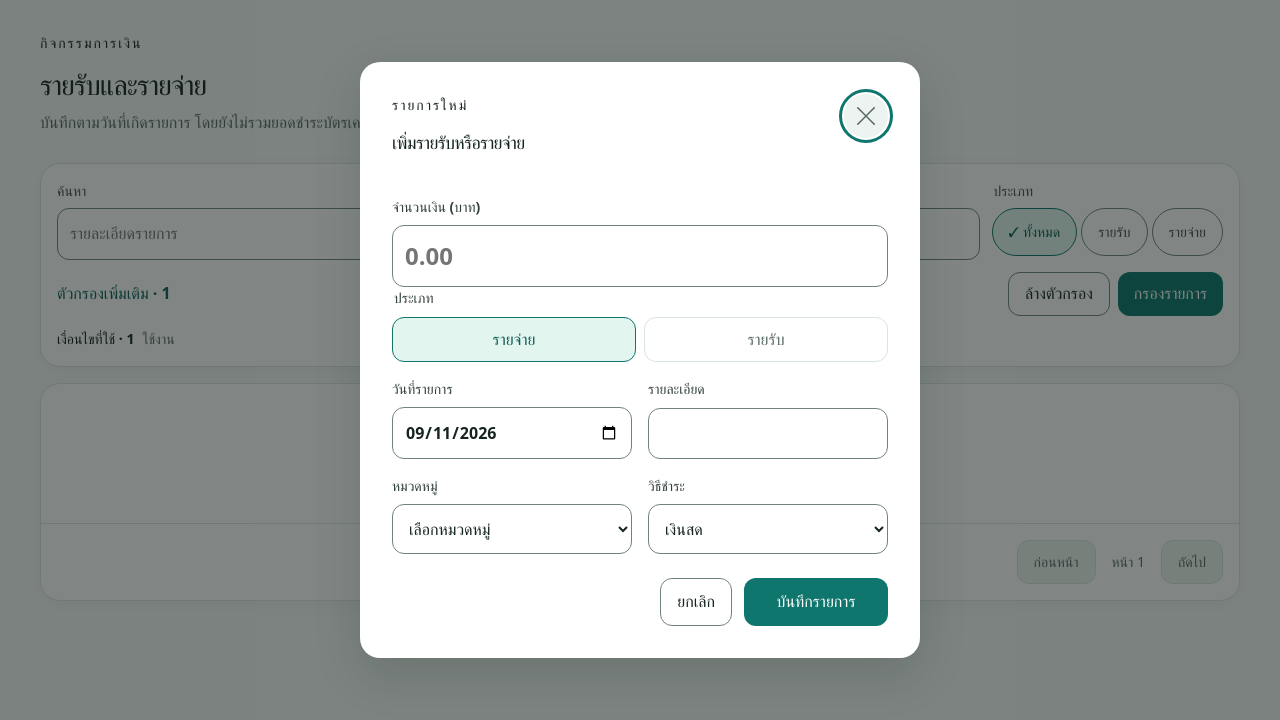
Test: finance pages › retains entered values when saving fails
In the field labelled "จำนวนเงิน (บาท)": point(640, 256) [392,225,888,287], type "125.50"
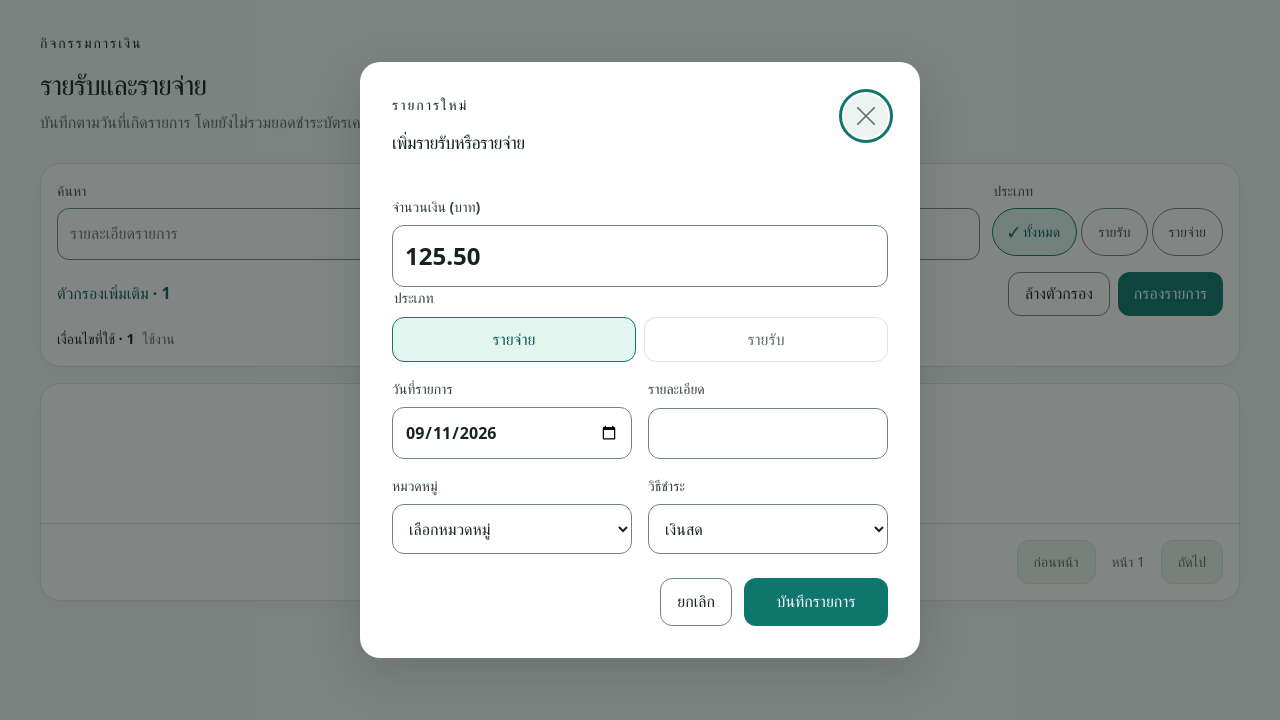
In the field labelled "รายละเอียด": point(768, 433) [648,408,888,459], type "รายการที่ต้องเก็บค่าไว้"
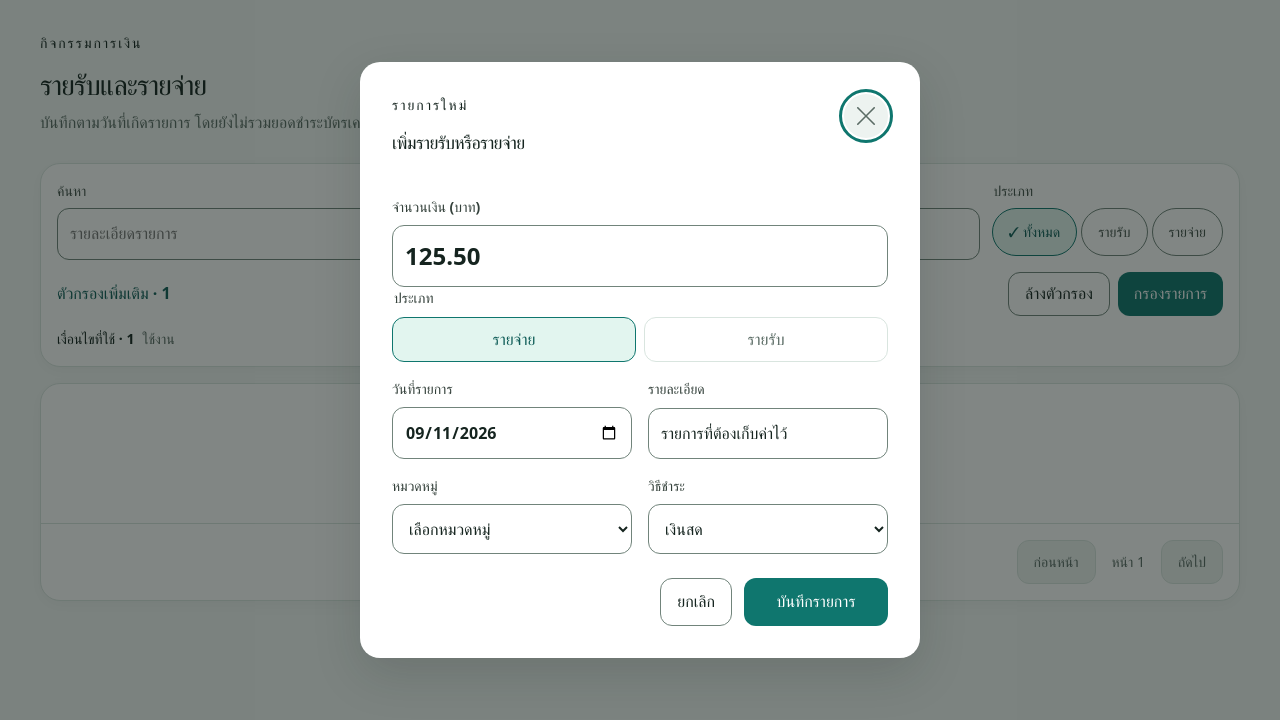
Select "อาหารสมมติ" in the dropdown labelled "หมวดหมู่": point(512, 529) [392,504,632,554]
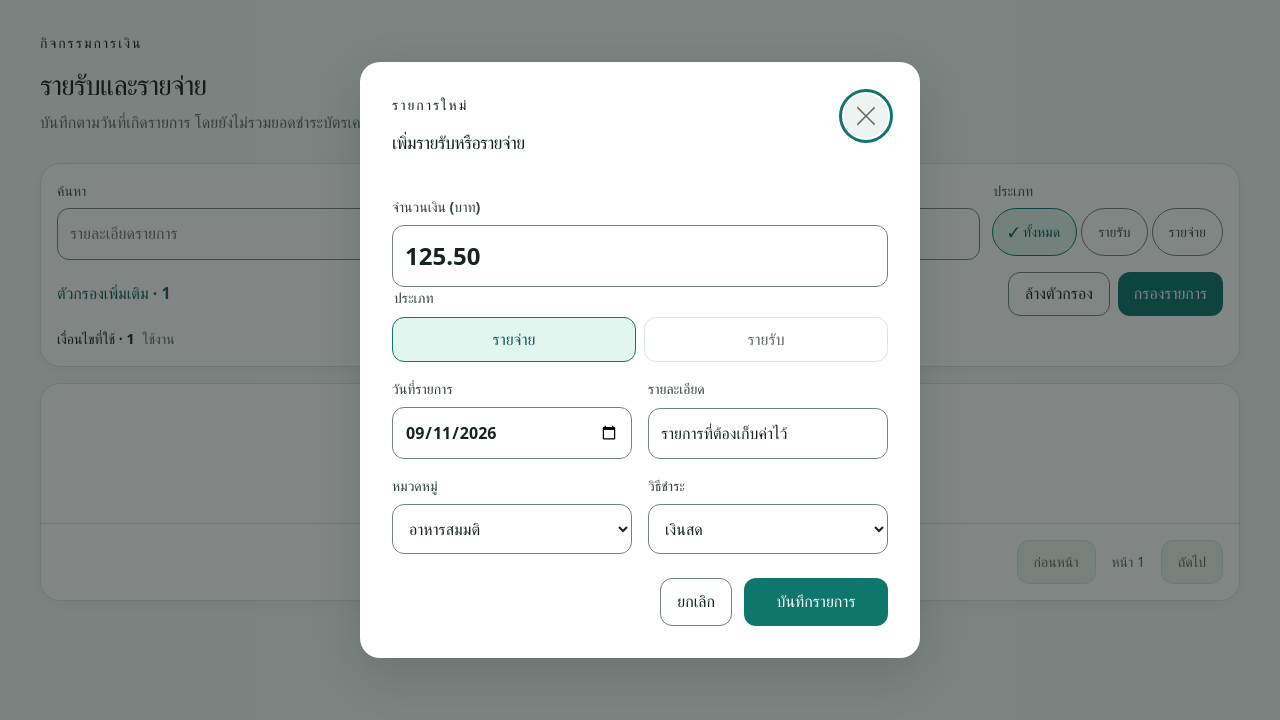
Click the button "บันทึกรายการ": point(816, 602) [744,578,888,626]
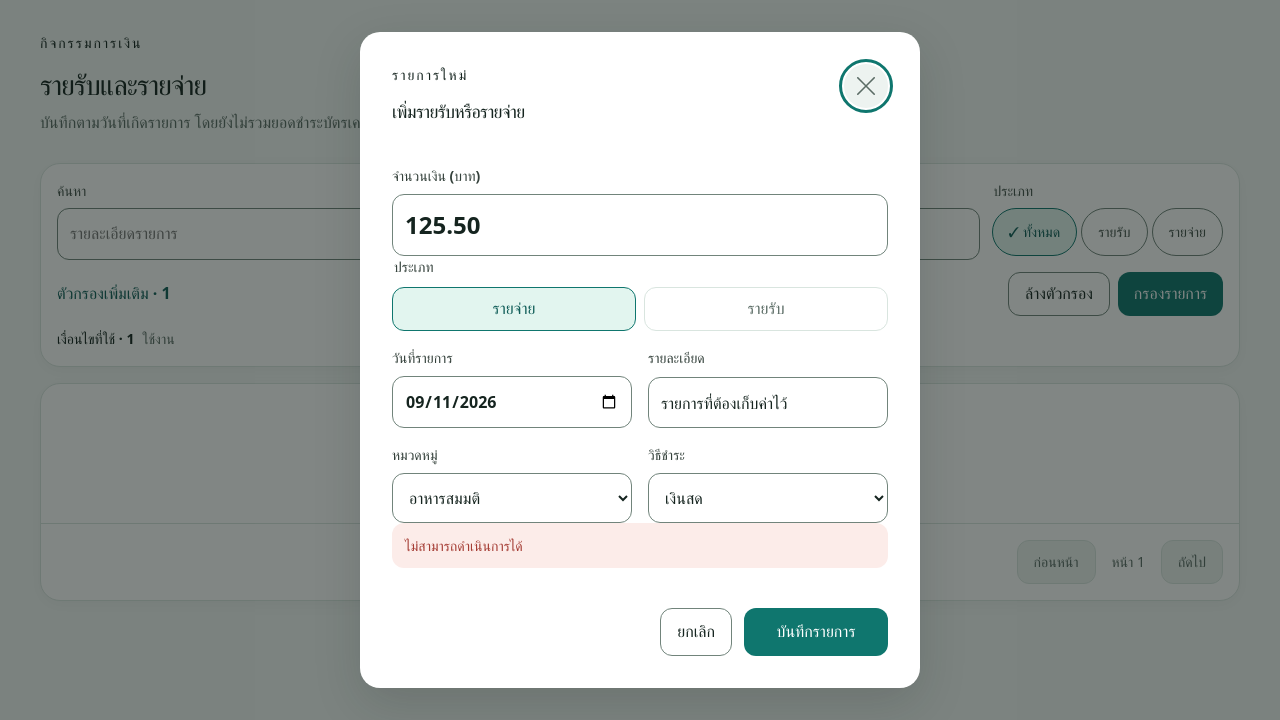
Now the message reads "ไม่สามารถดำเนินการได้", box [405,536,523,555]
